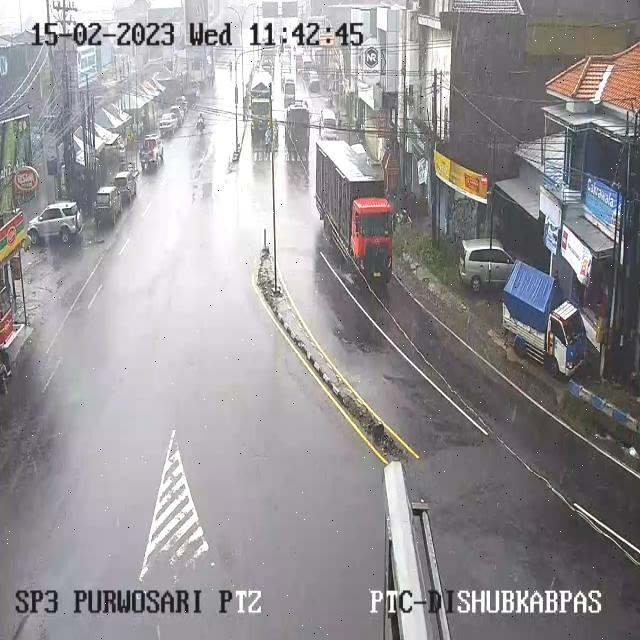Car: (459, 238, 522, 290), (27, 202, 81, 246), (94, 186, 124, 226), (139, 134, 164, 170), (112, 170, 138, 202), (319, 108, 338, 135), (158, 112, 180, 134), (283, 75, 297, 103), (169, 106, 184, 126), (308, 76, 322, 95), (175, 96, 188, 115), (301, 54, 313, 74), (294, 48, 304, 67), (261, 58, 273, 72)
Motorbike: (0, 347, 12, 387), (139, 149, 151, 169), (197, 114, 208, 133), (328, 95, 335, 108), (194, 85, 200, 100)
Truck: (311, 141, 397, 287), (502, 263, 586, 379), (248, 72, 274, 154), (286, 100, 310, 152)
